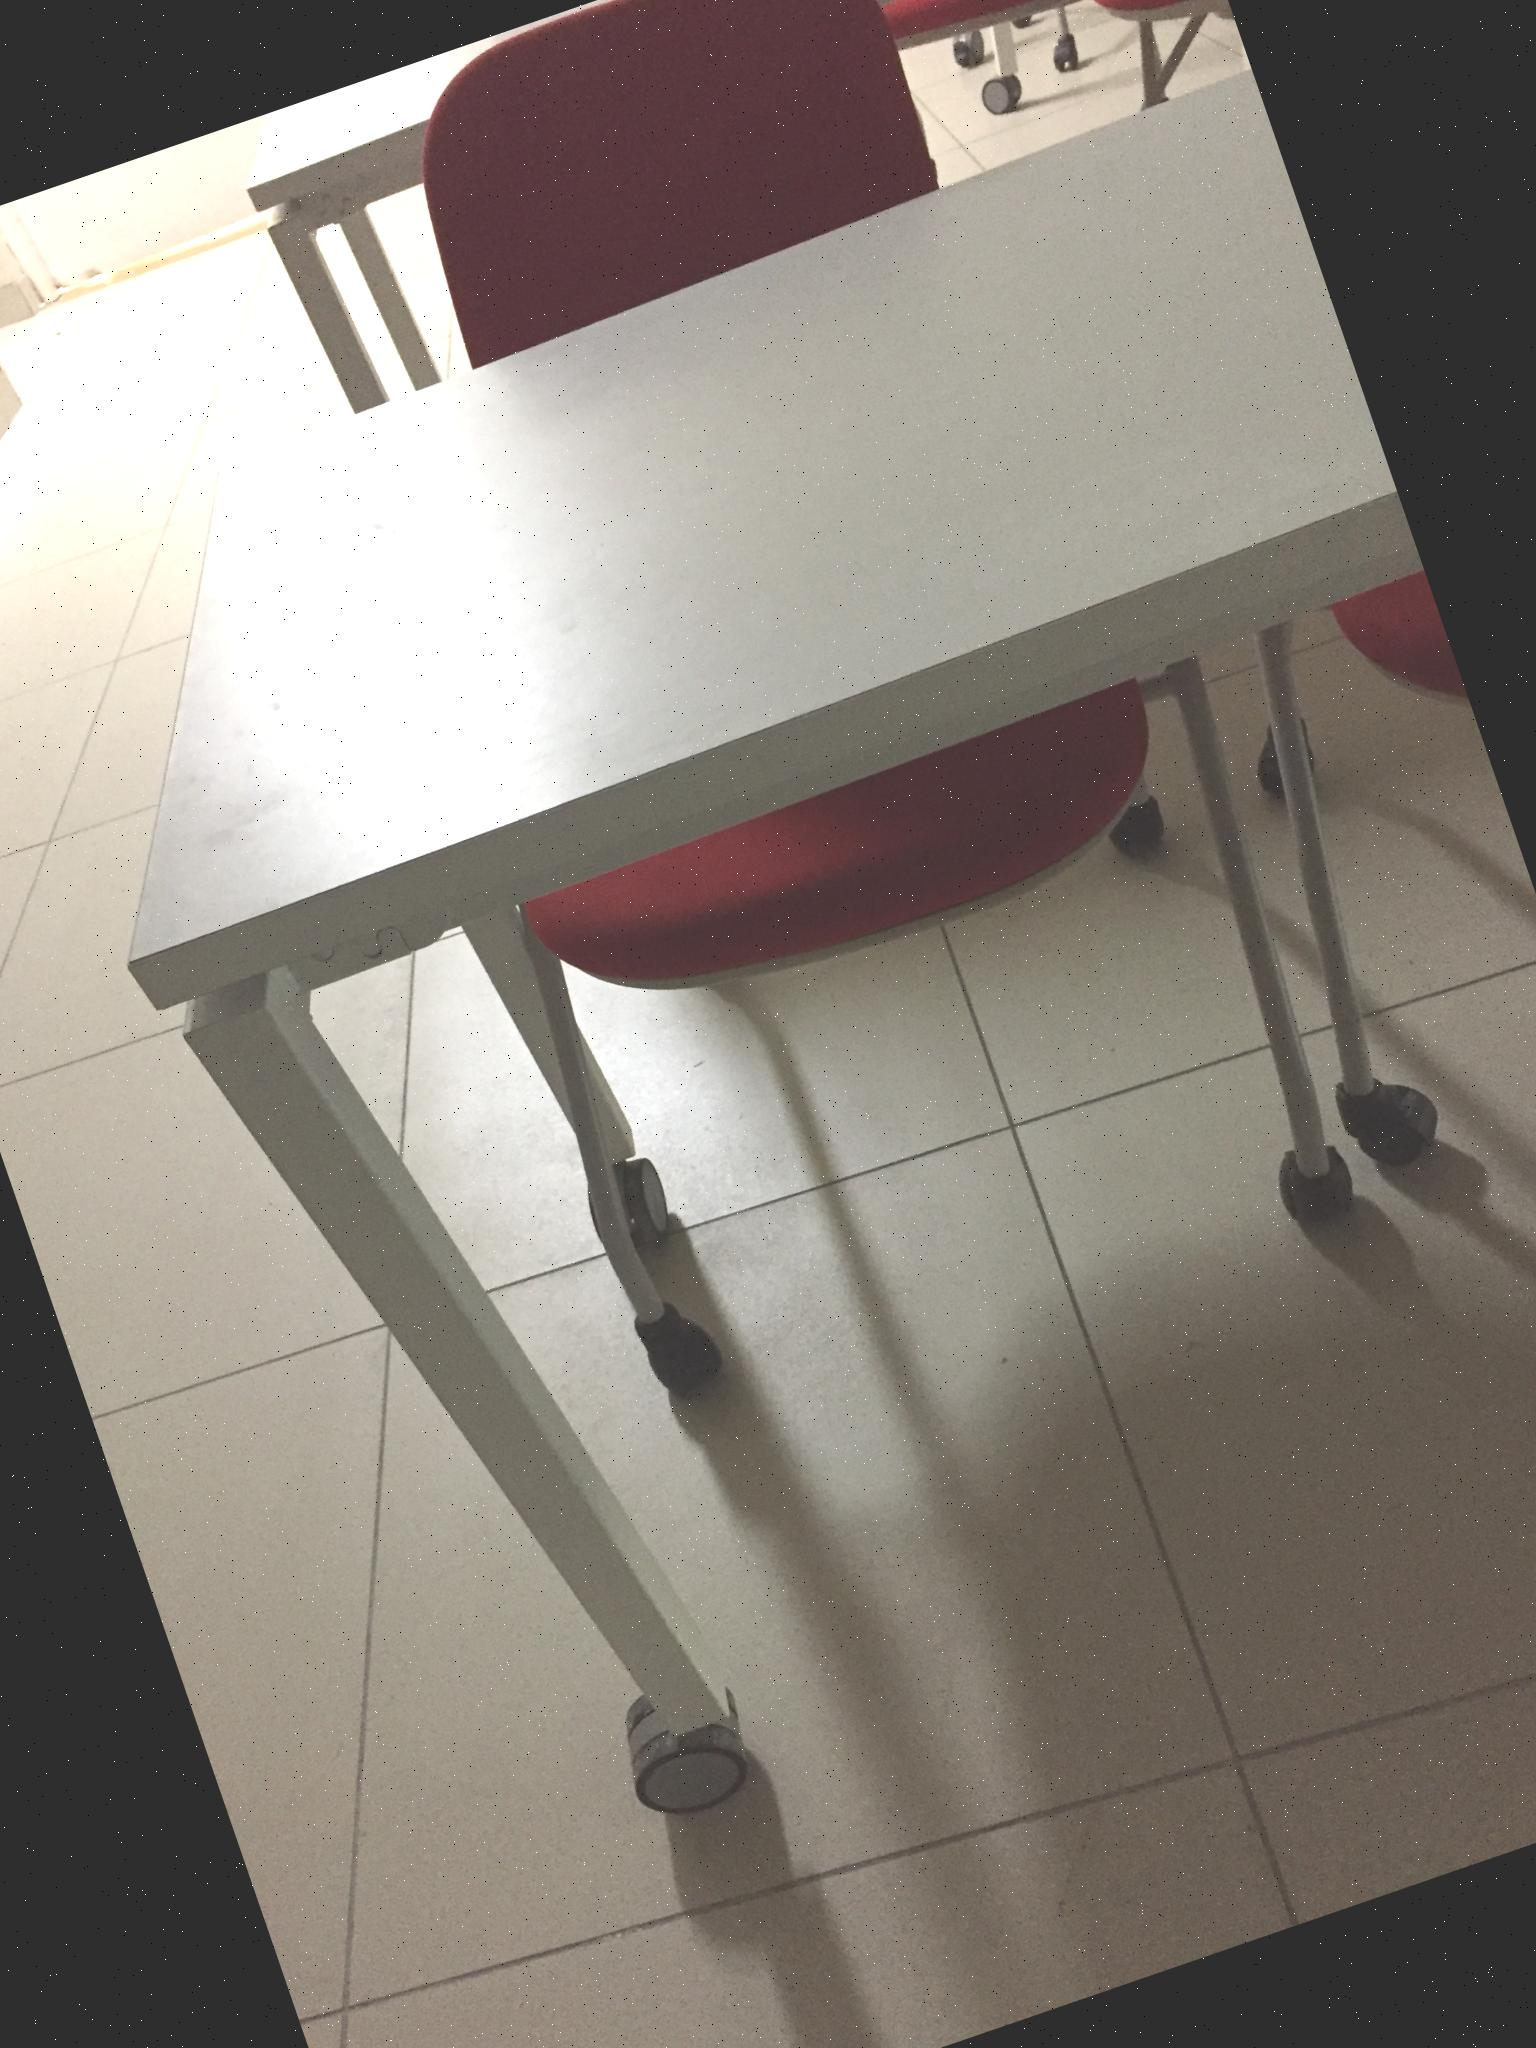chair: (216, 0, 1376, 1437), (1126, 281, 1536, 1180), (855, 0, 1250, 174)
